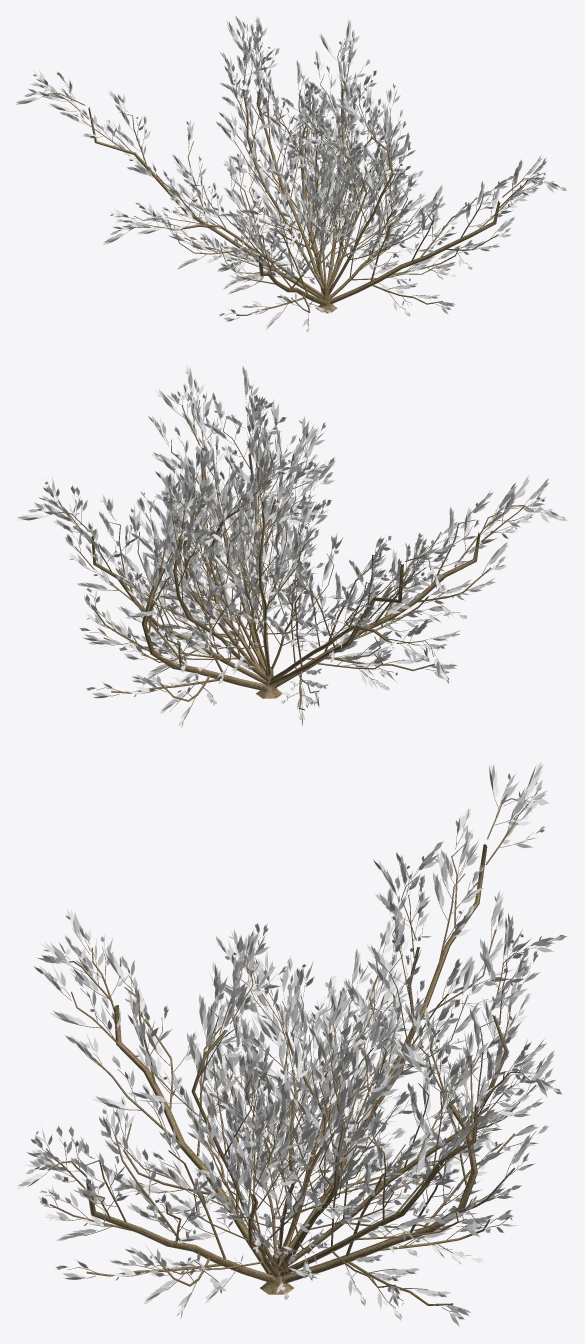
File: veg.glb
3 renders of one model, top to bottom at view 1: azimuth 30°, elevation 25°; view 2: azimuth 150°, elevation 25°; view 3: azimuth 270°, elevation 25°, orthographic. The views are drawn at different scales.
Parts seen in each view (by area): view 1: Leafs, Tree; view 2: Leafs, Tree; view 3: Leafs, Tree.
Part boxes in pixels (x1,y1,x2,y2): Leafs: (15, 16, 566, 332); Tree: (34, 29, 555, 325); Leafs: (15, 365, 566, 728); Tree: (38, 387, 546, 717); Leafs: (16, 761, 567, 1326); Tree: (38, 783, 552, 1311).
Size of the model in its own units: 1069 by 684 by 828.
Materials: 2 (2 with a texture image).
